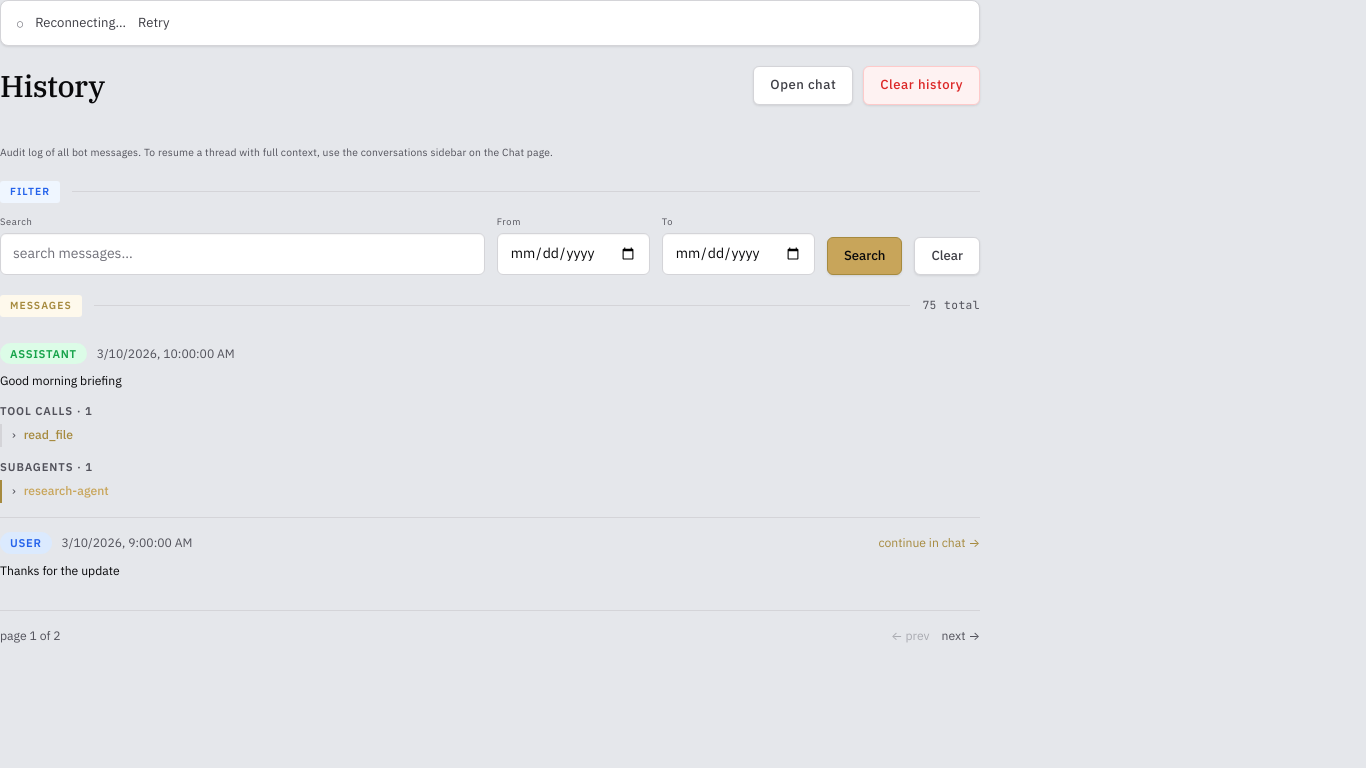
Test: ConversationHistory.vue › has clear history button with confirmation
// Click Clear History
Click the button "Clear history".
click(922, 85)  # box [863, 66, 980, 105]
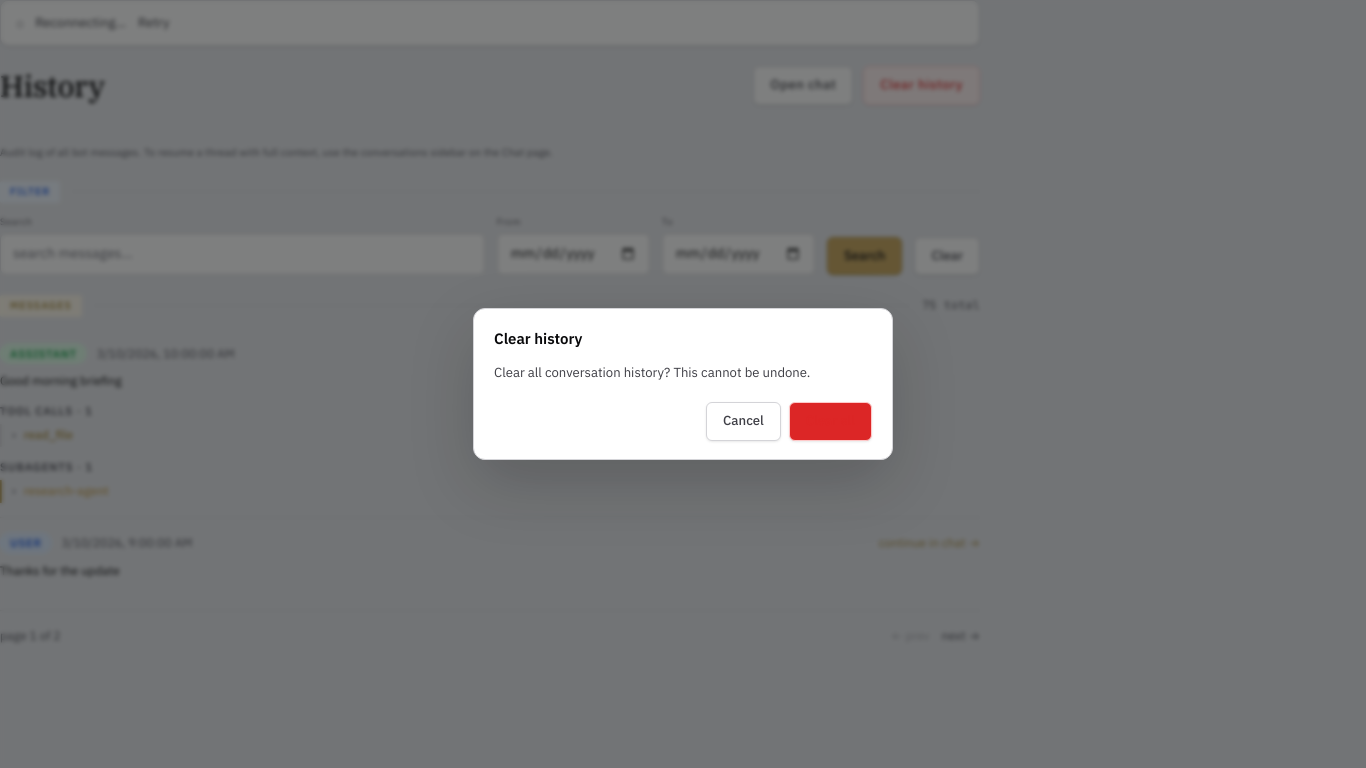
Result: the text "Clear all conversation history?" is shown at [494, 364, 810, 381]
Result: the text "Clear all" is shown at [494, 364, 810, 381]
